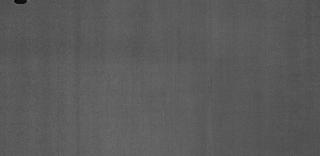punching hole: (10, 1, 30, 6)
